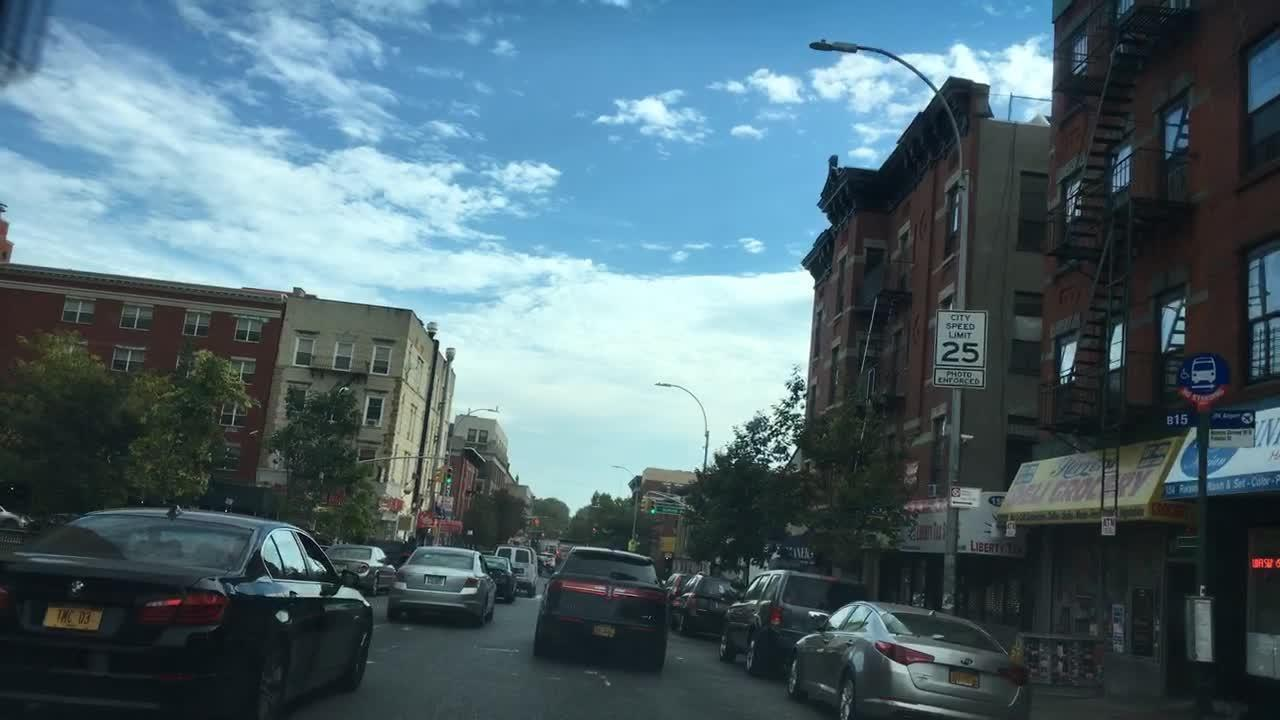bmw: (72, 577, 86, 596)
lincoln: (606, 583, 614, 601)
